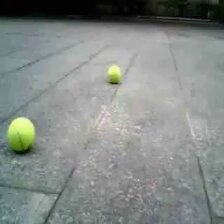tennis: (8, 117, 34, 149), (106, 66, 121, 82)
